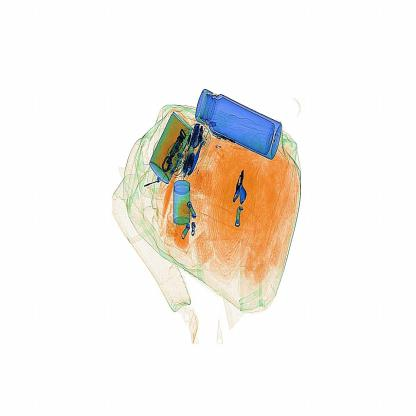wrench: (227, 164, 259, 217)
